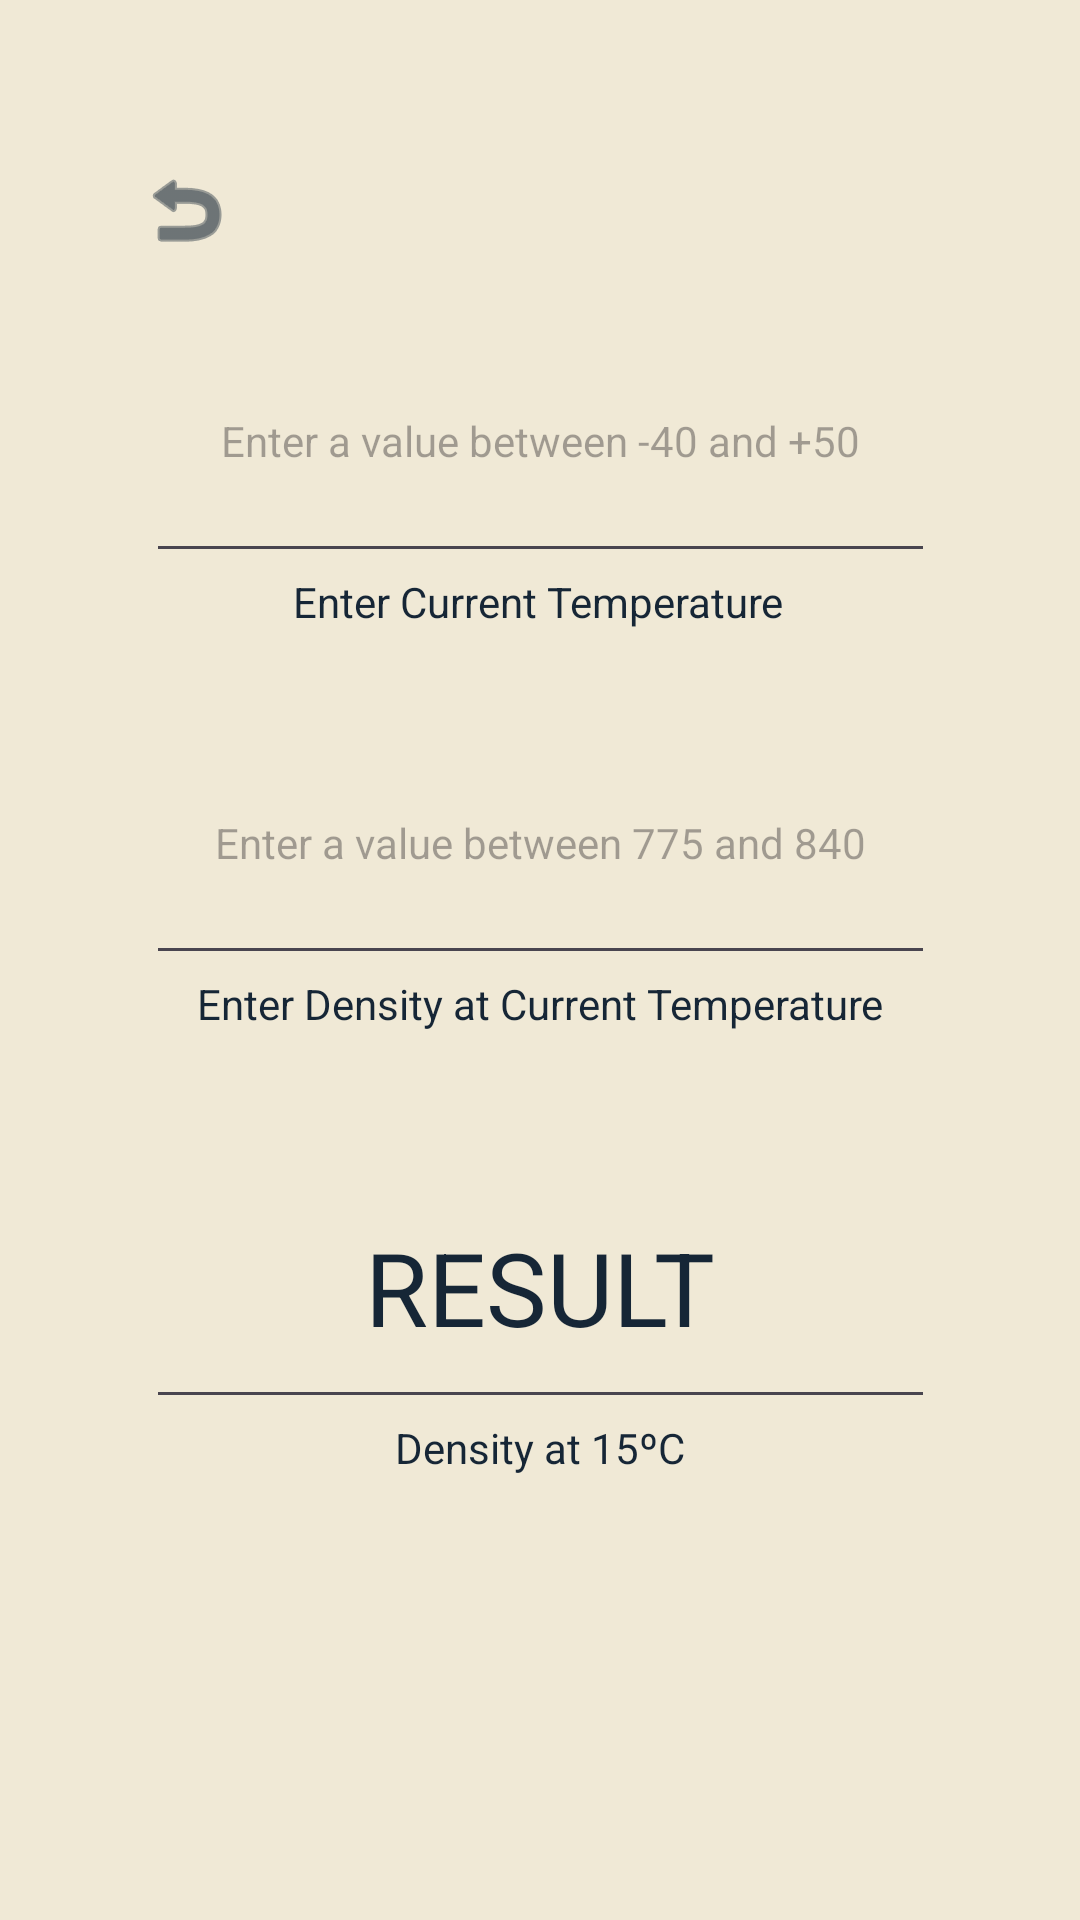

Point at icon controls on the screen. Image size 1080 x 1920, points as (x,y).
revert: (187,210)
